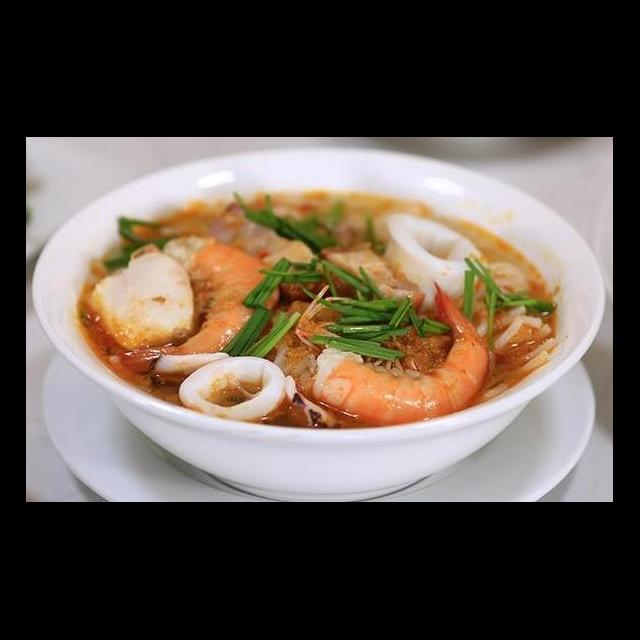ca: (81, 242, 202, 360)
muc: (378, 210, 492, 316), (170, 352, 294, 430)
thit heo quay: (316, 238, 430, 320)
tom: (310, 276, 496, 428), (115, 224, 288, 380)
